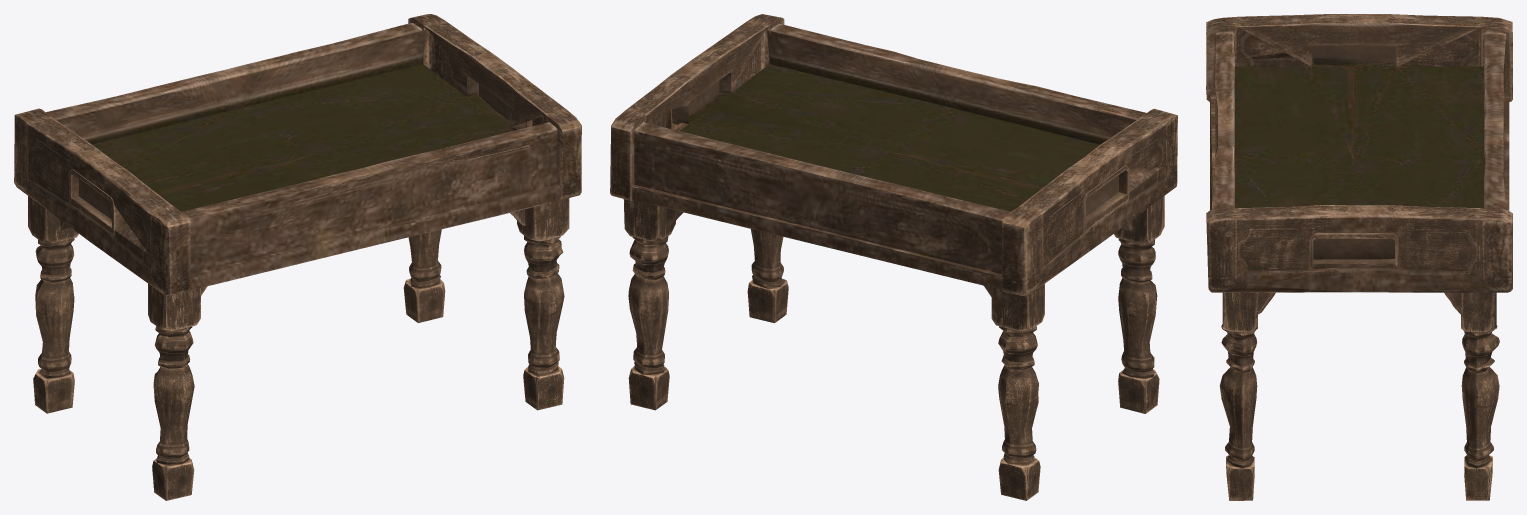
Rendered from foosball-table.glb.
3 renders of one model, left to right at view 1: azimuth 30°, elevation 25°; view 2: azimuth 150°, elevation 25°; view 3: azimuth 270°, elevation 25°, orthographic.
Parts seen in each view (by area): view 1: GLTF; view 2: GLTF; view 3: GLTF.
Boxes of the visible parts, left/top/right/bottom form: GLTF: left=14, top=14, right=581, bottom=500; GLTF: left=610, top=14, right=1177, bottom=500; GLTF: left=1206, top=14, right=1512, bottom=500.
Bounding box in the file's own units: 1.36 × 0.8994 × 0.8604.
1 material, 1 textured.
